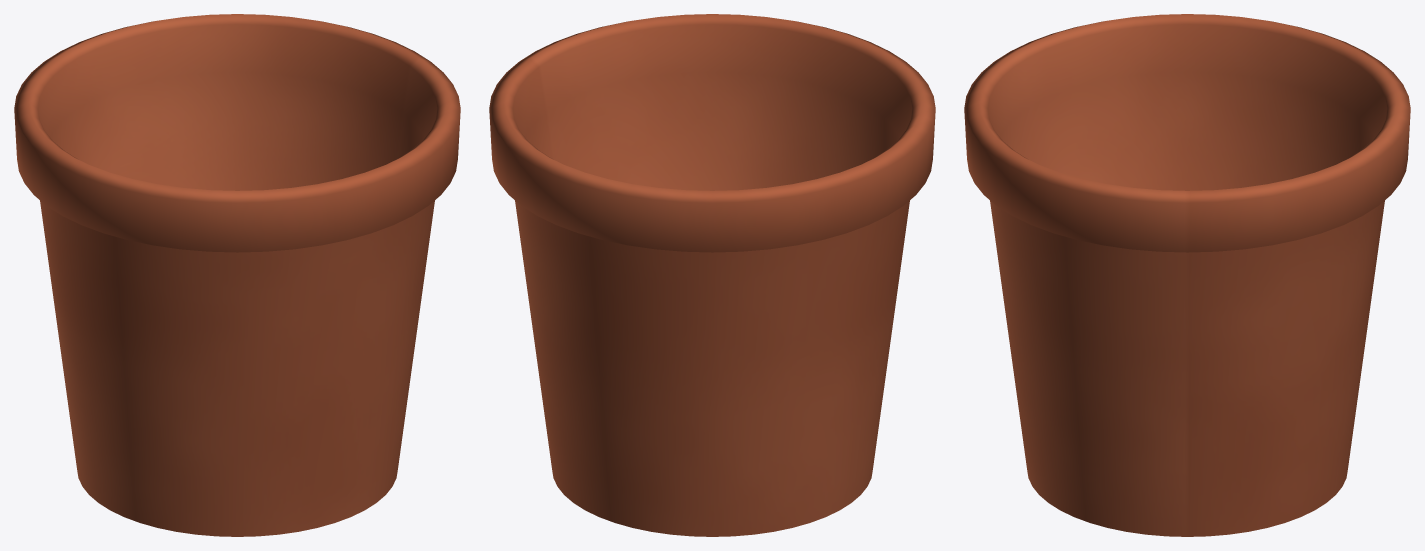
The picture shows the model from 3 angles, left to right: view 1: azimuth 30°, elevation 25°; view 2: azimuth 150°, elevation 25°; view 3: azimuth 270°, elevation 25°; orthographic projection.
Visible parts, largest first — view 1: Terracotta pot, 30 cm; view 2: Terracotta pot, 30 cm; view 3: Terracotta pot, 30 cm.
Boxes of the visible parts, x1,y1,x2,y2 form: Terracotta pot, 30 cm: (14, 14, 460, 536); Terracotta pot, 30 cm: (489, 14, 935, 536); Terracotta pot, 30 cm: (964, 14, 1410, 536).
Bounding box in the file's own units: 0.32 × 0.29 × 0.32.
Materials: 1 (1 with a texture image).
